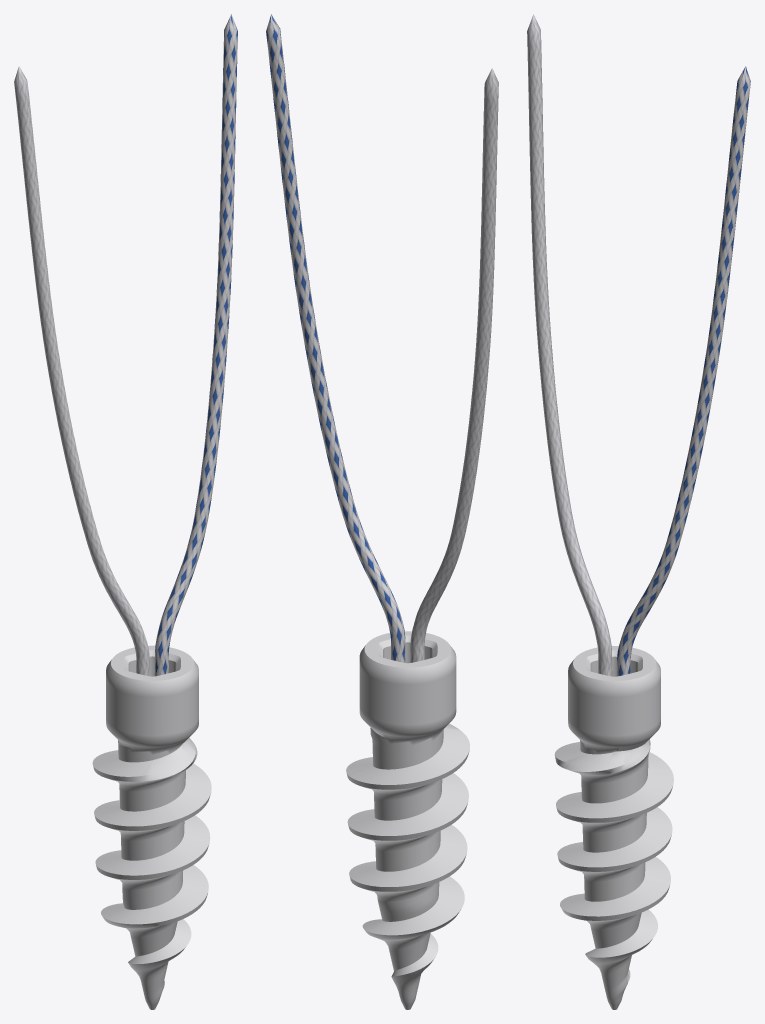
Rendered from s7_paratak_5x16_lod0.glb.
3 renders of one model, left to right at view 1: azimuth 30°, elevation 25°; view 2: azimuth 150°, elevation 25°; view 3: azimuth 330°, elevation 25°, orthographic. The views are drawn at different scales.
Parts seen in each view (by area): view 1: s7_paratak_5x16; view 2: s7_paratak_5x16; view 3: s7_paratak_5x16.
Boxes of the visible parts, x1=… form: s7_paratak_5x16: x1=14, y1=14, x2=237, y2=1009; s7_paratak_5x16: x1=266, y1=14, x2=498, y2=1009; s7_paratak_5x16: x1=527, y1=14, x2=750, y2=1009.
Bounding box in the file's own units: 0.0108 × 0.044 × 0.00498.
Materials: 3 (2 with a texture image).
